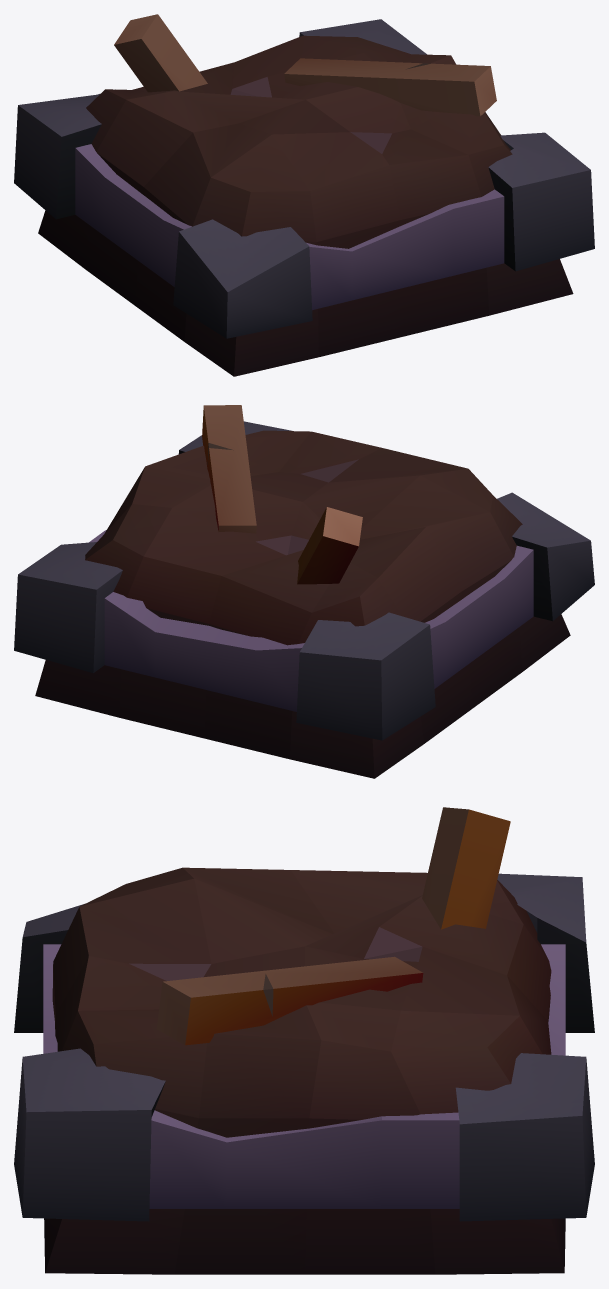
The model's file is destroyed tower.fbx.
3 renders of one model, top to bottom at view 1: azimuth 30°, elevation 25°; view 2: azimuth 150°, elevation 25°; view 3: azimuth 270°, elevation 25°, orthographic. The views are drawn at different scales.
Visible parts, largest first — view 1: Cube.020; view 2: Cube.020; view 3: Cube.020.
Part boxes in pixels (<box>): Cube.020: <box>14,14,594,376</box>; Cube.020: <box>14,405,594,778</box>; Cube.020: <box>14,807,594,1274</box>.
Bounding box in the file's own units: 249 × 142 × 249.
